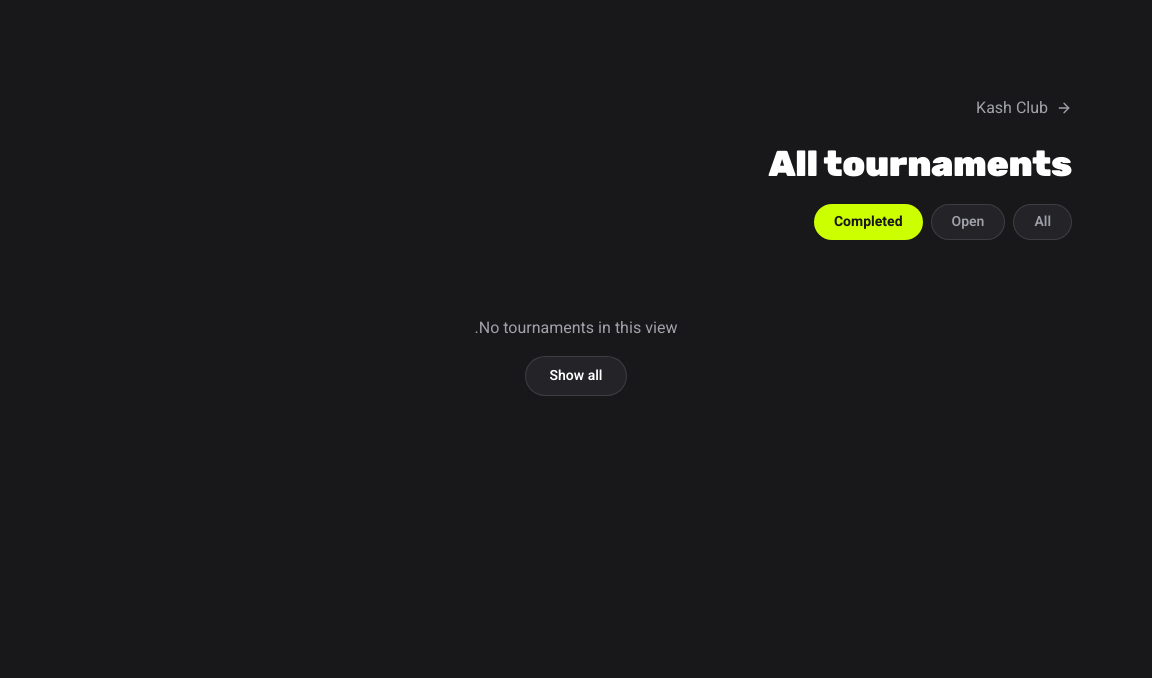
ClubTournamentsPage › empty filtered view offers a reset to All
Expected: the text "No tournaments in this view." is shown, [475, 316, 677, 340]
Click the button "Show all": (576, 376) [524, 356, 627, 396]
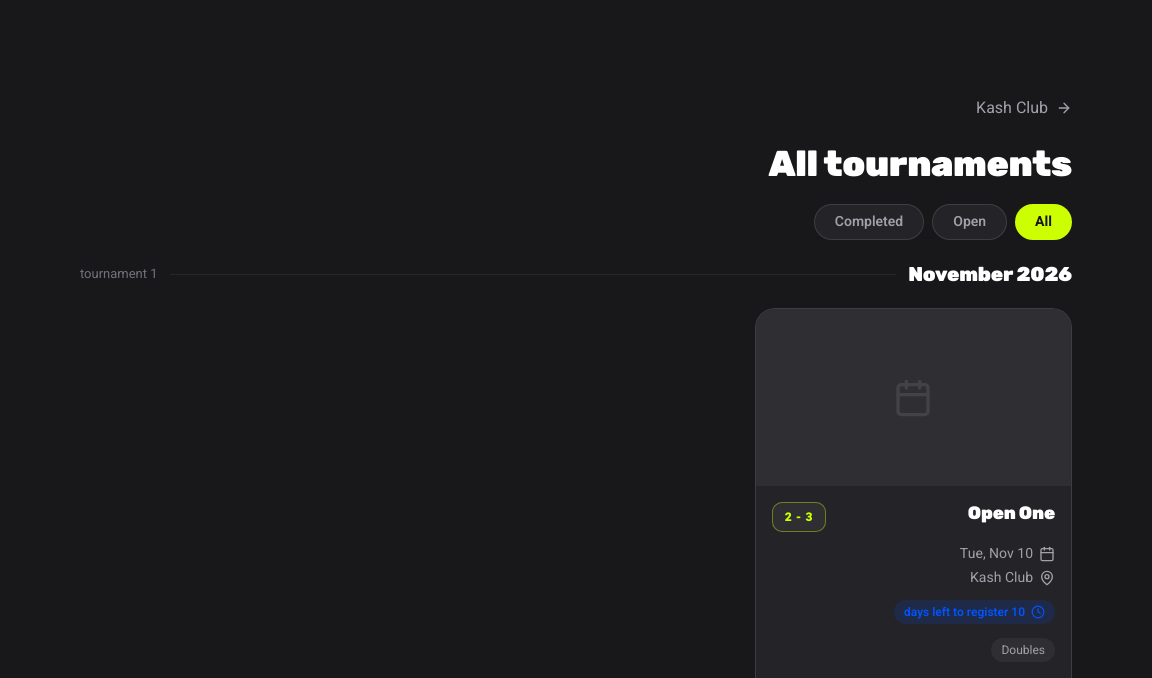
Expected: the heading "Open One" is shown, [968, 502, 1055, 524]
